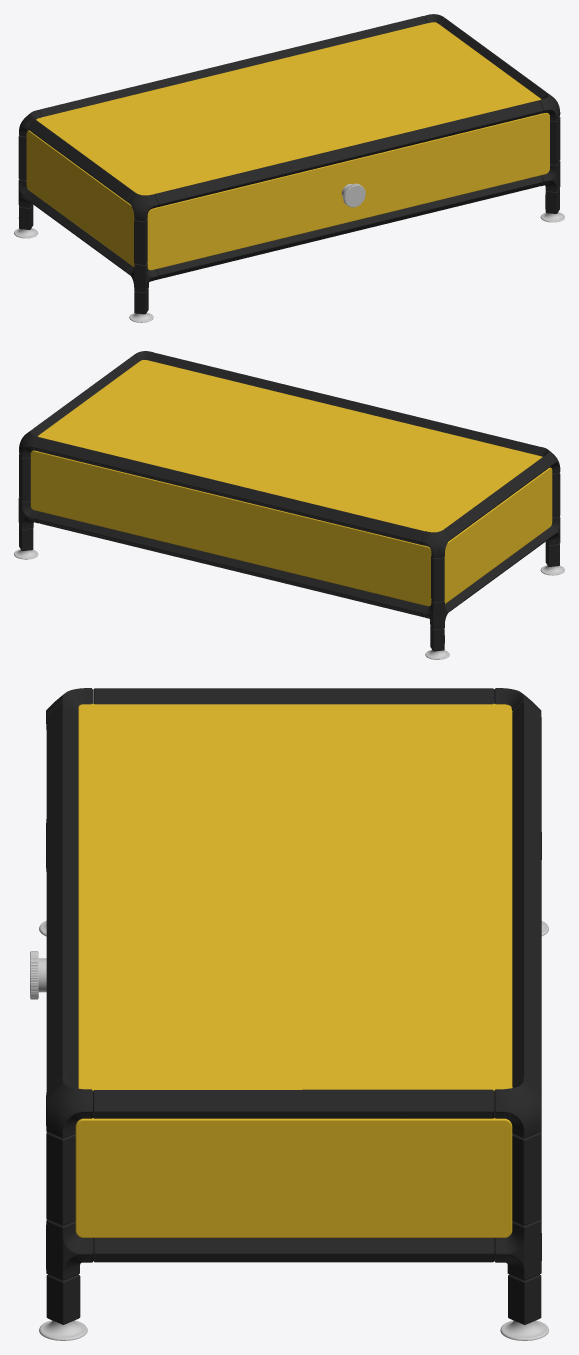
The picture shows the model from 3 angles, top to bottom: view 1: azimuth 30°, elevation 25°; view 2: azimuth 150°, elevation 25°; view 3: azimuth 270°, elevation 25°; orthographic projection. The views are drawn at different scales.
Parts seen in each view (by area): view 1: 729x329x79; view 2: 729x329x79; view 3: 729x329x79.
Part boxes in pixels (left/top/right/bottom): 729x329x79: left=14, top=14, right=564, bottom=322; 729x329x79: left=14, top=351, right=564, bottom=659; 729x329x79: left=30, top=688, right=548, bottom=1340.
Size of the model in its own units: 0.8189 by 0.2183 by 0.4257.
